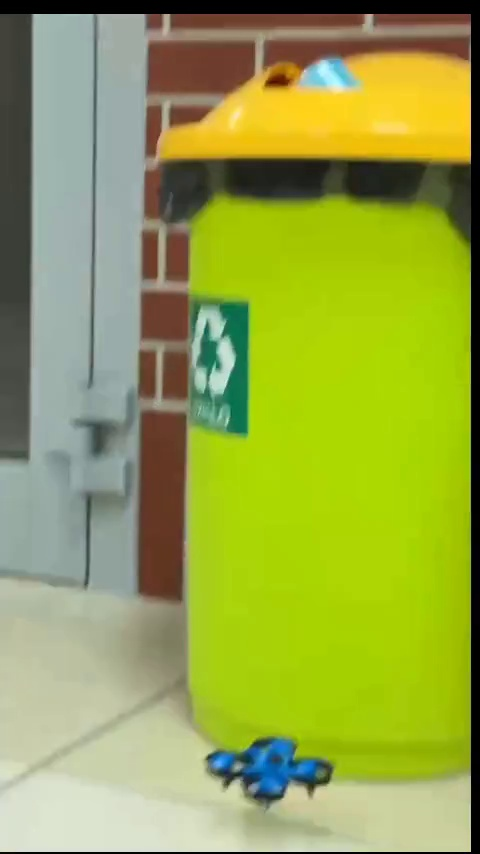drone: (199, 737, 332, 806)
